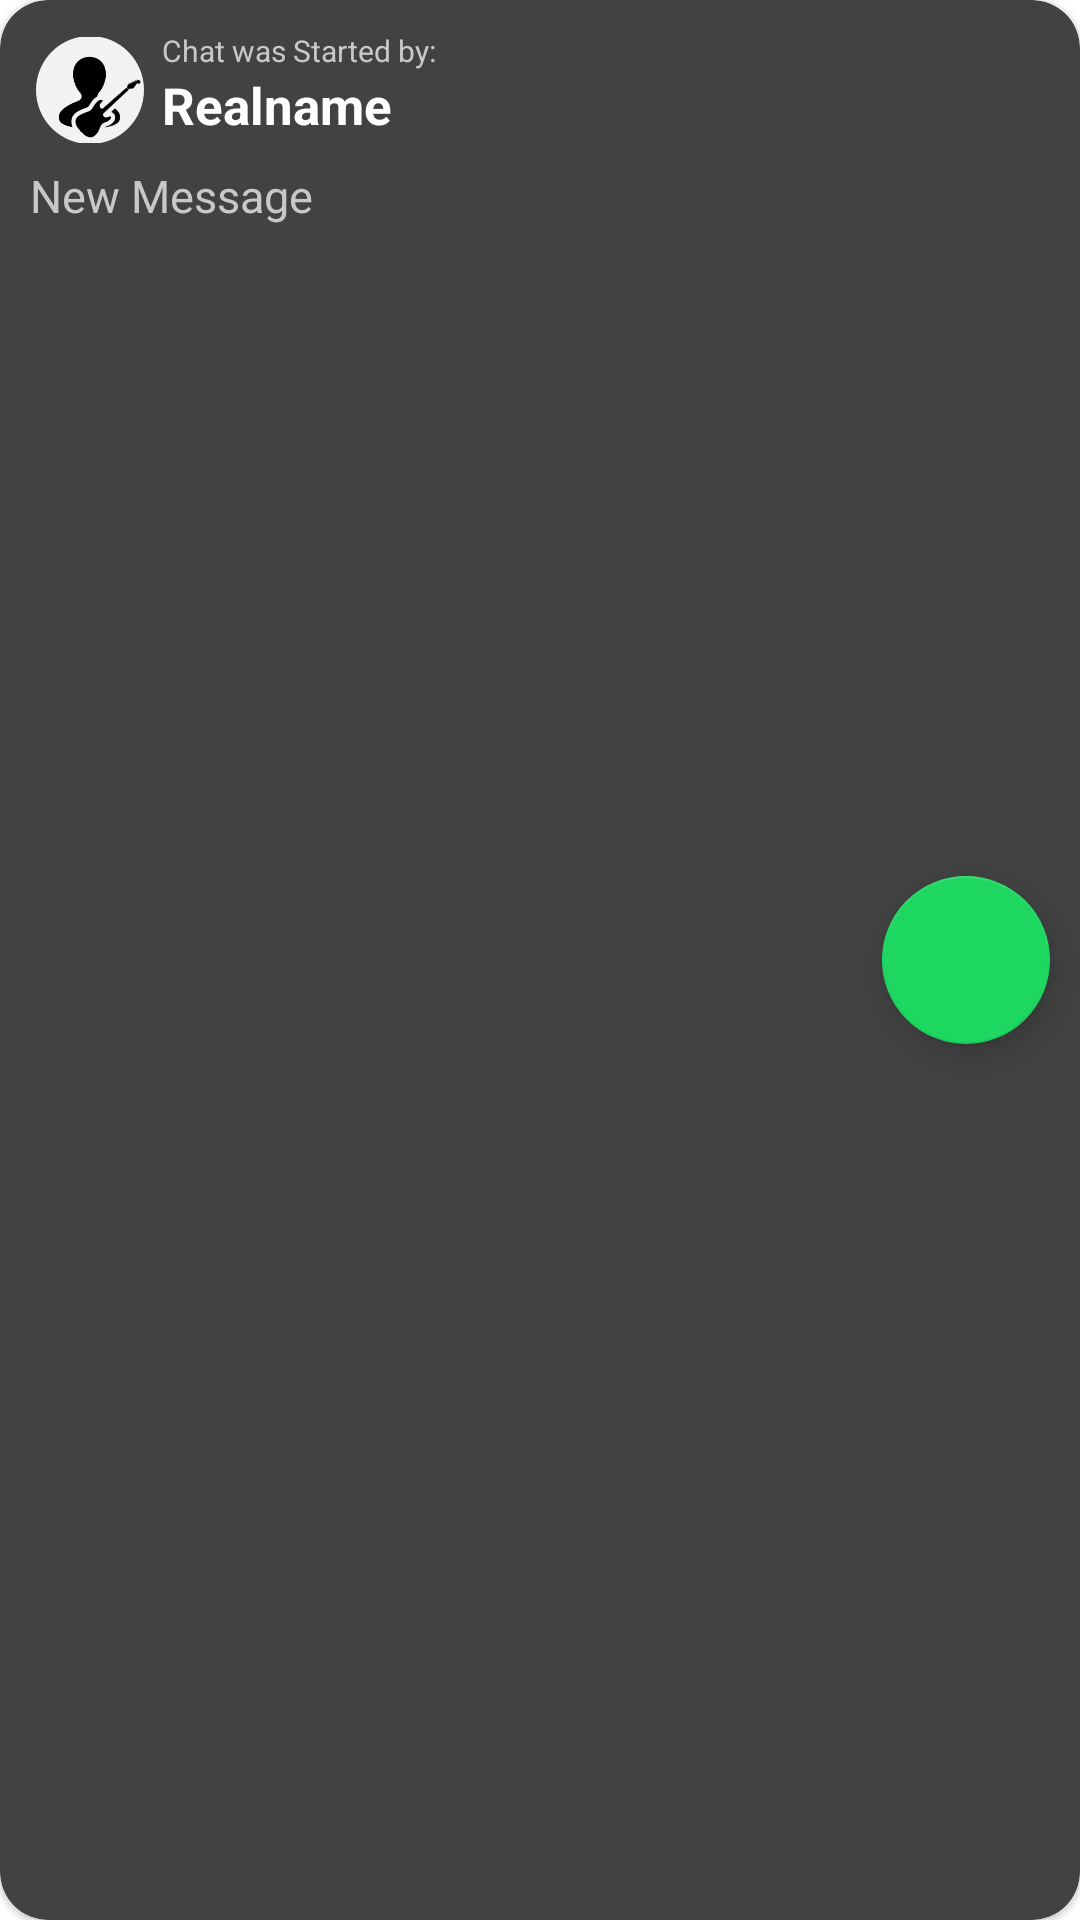

Locate icon controls on the screen. Image size 1080x1920, boxes as [x1,y1,x2,y2].
defaultpp: [36,37,144,143]
